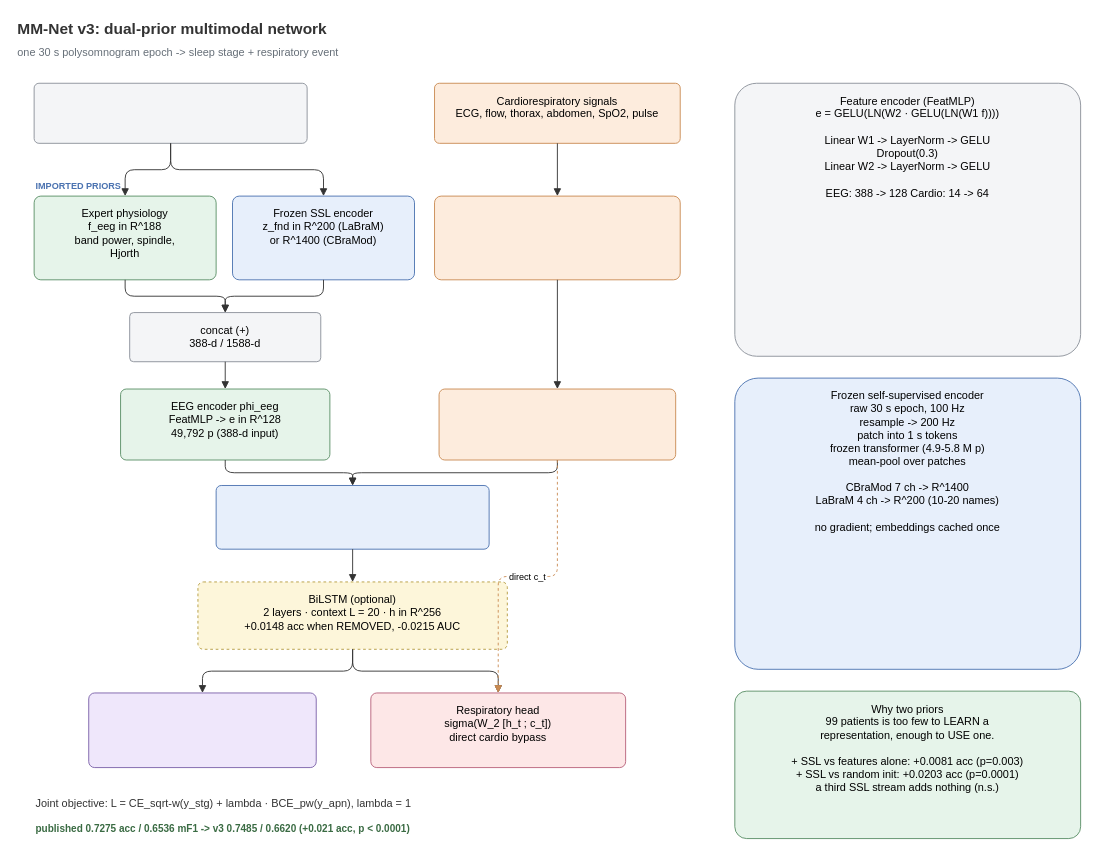
This 1097x854 diagram has some shape labels left out. Here are the shapes that lost their labels. From the top down, the centre of each, then its label:
At (x=170, y=112): "PSG epoch 7 ch @ 100 Hz · 30 s = 3000 samples".
At (x=557, y=237): "Cardio features f_car in R^14 SpO2, effort, HRV, airflow".
At (x=557, y=424): "Cardio encoder phi_car FeatMLP -> c in R^64 5,376 p".
At (x=352, y=517): "Fusion (concat) [e ; c] -> z in R^128 · 24,704 p".
At (x=202, y=730): "Staging head softmax(W_s h_t) -> 5 classes + HMM Viterbi decode".
